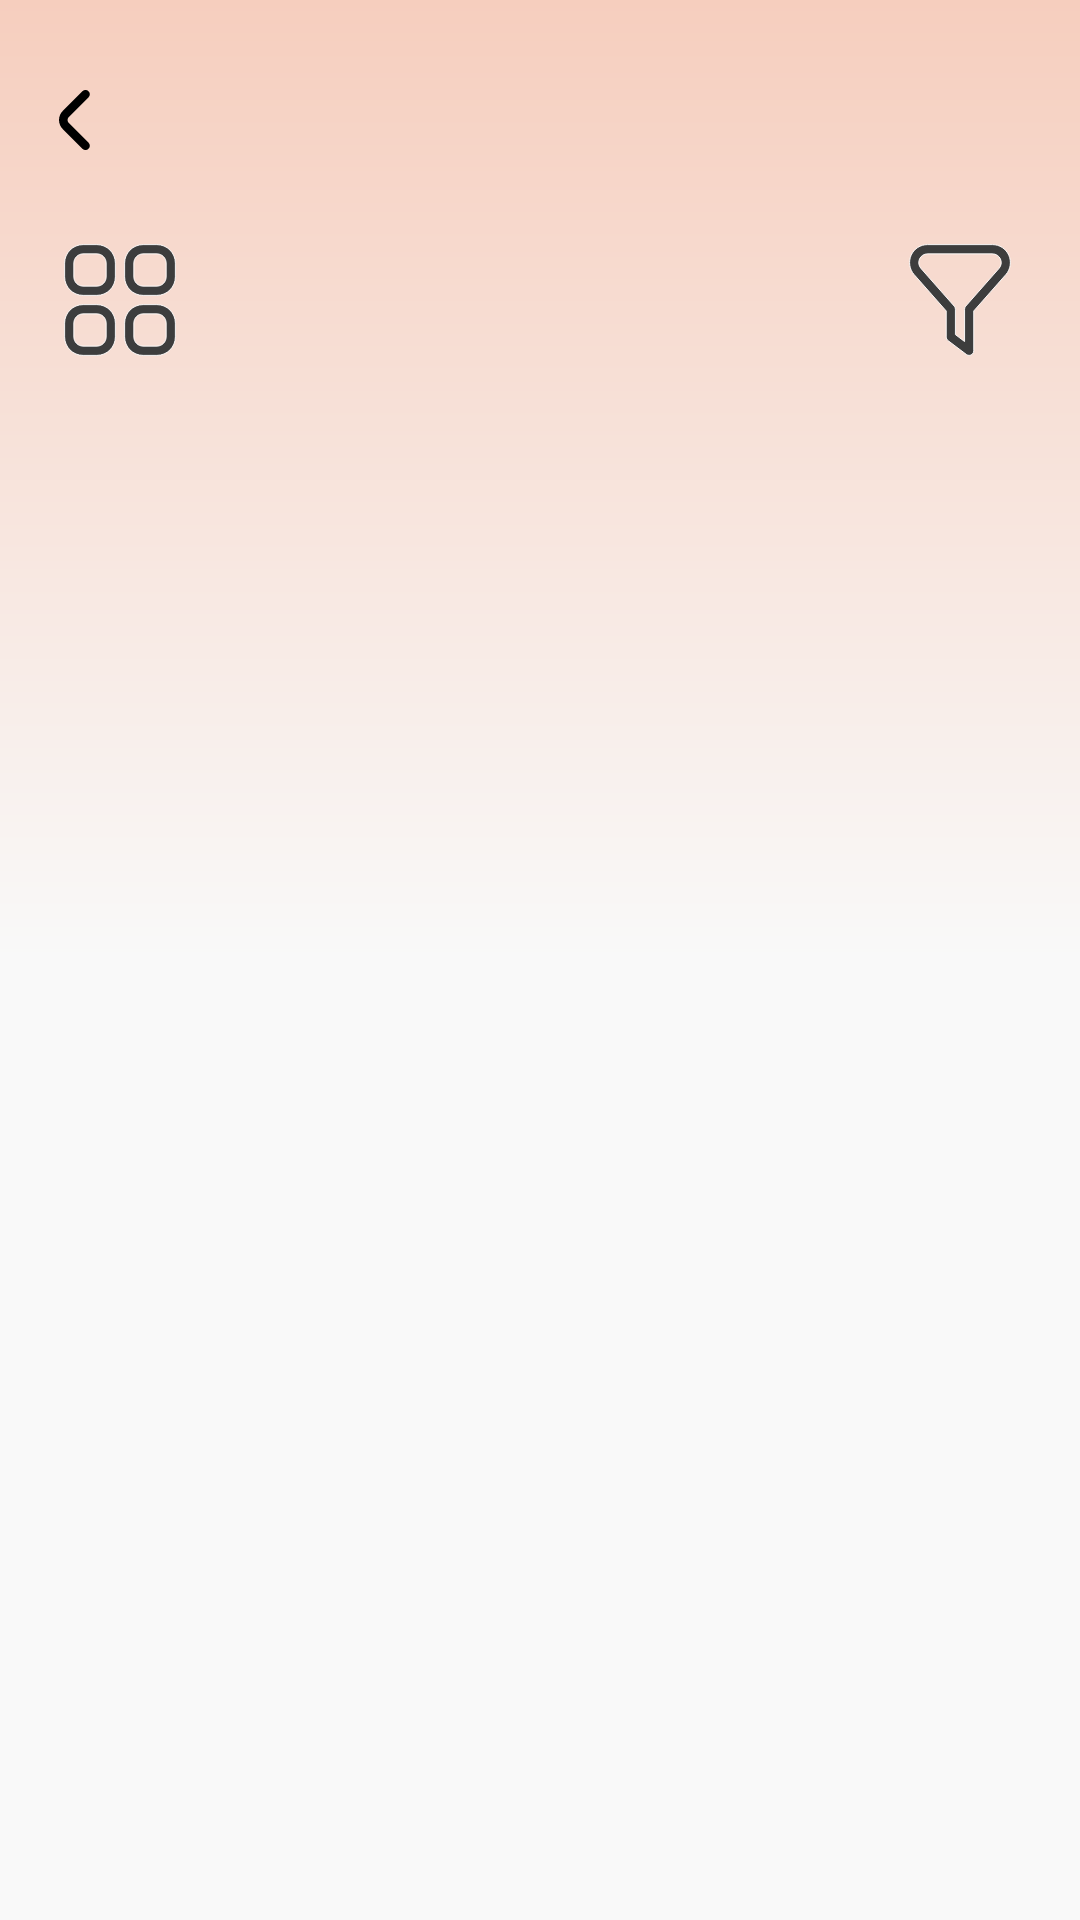

Named icons in this screenshot (1080×1920) and their centers, point (x, y):
back: point (74, 120)
filter: point (959, 300)
grid: point (120, 300)
